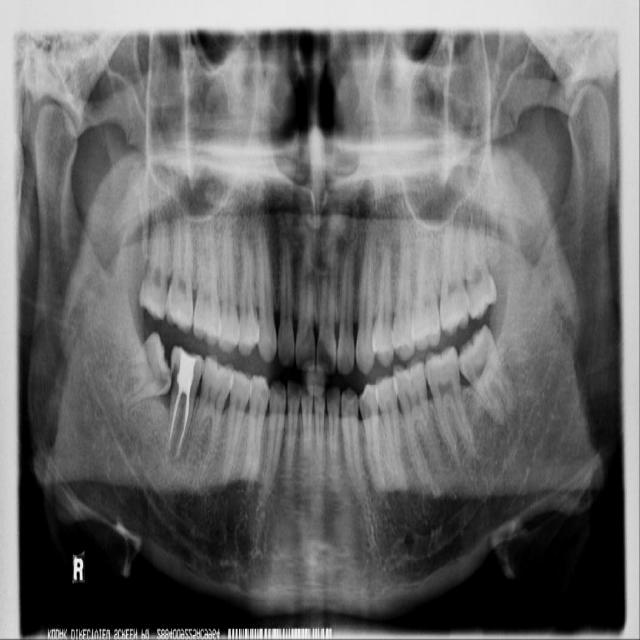Filling: (173, 348, 203, 388)
Periapical lesion: (173, 433, 188, 464), (167, 433, 175, 453)
Root Canal Treatment: (176, 387, 190, 456), (170, 384, 184, 439)
impacted tooth: (458, 320, 520, 423), (113, 335, 172, 419)
